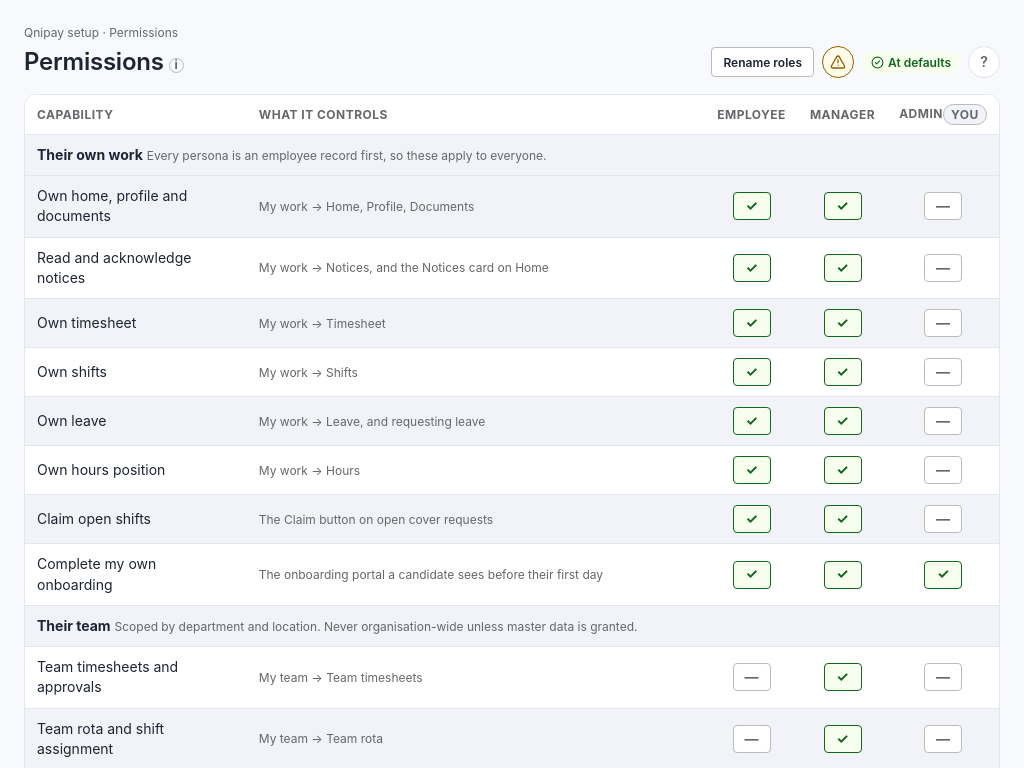
Test: the aperm page offers a ? that opens its guide, section by section
Click the button "?".
click(984, 62)  # box [968, 46, 1000, 78]
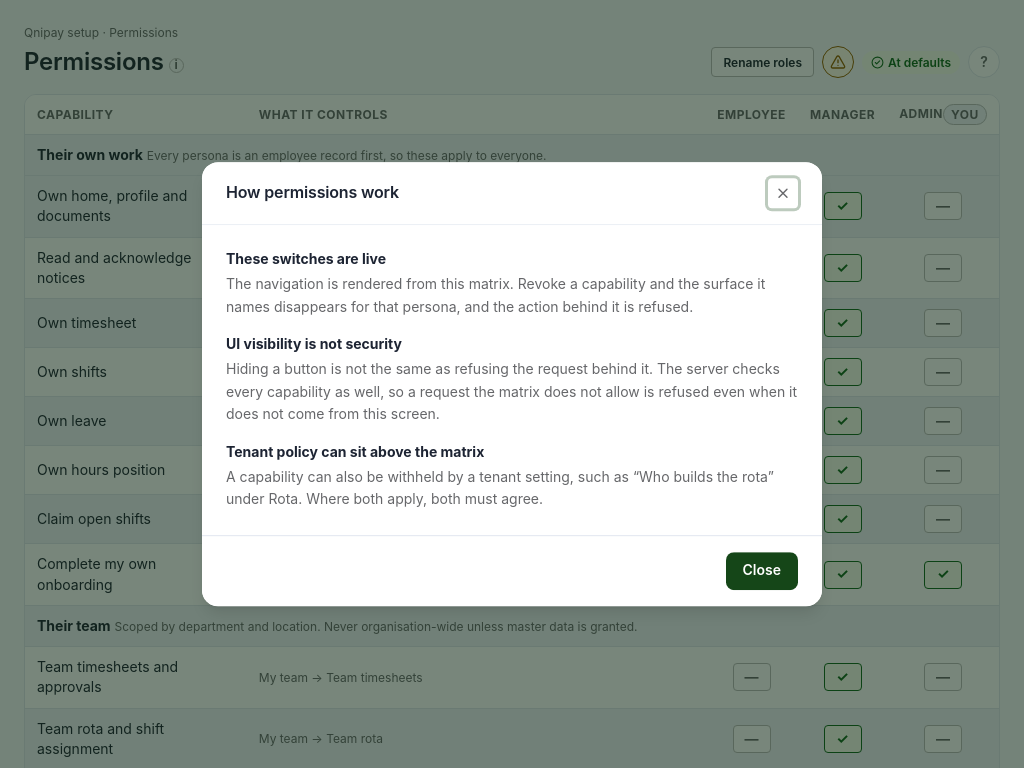
Check: the heading with test id "modal-title" reads "How permissions work", box [226, 183, 399, 203]
Check: the heading "These switches are live" is shown, box [226, 250, 386, 267]
Check: the dialog shows "The navigation is rendered from this matrix. Revoke a capability and the surface it names disappears for that persona, and the action behind it is refused.", box [226, 276, 765, 315]
Click the button with test id "guide-close".
click(762, 571)  # box [726, 552, 798, 590]
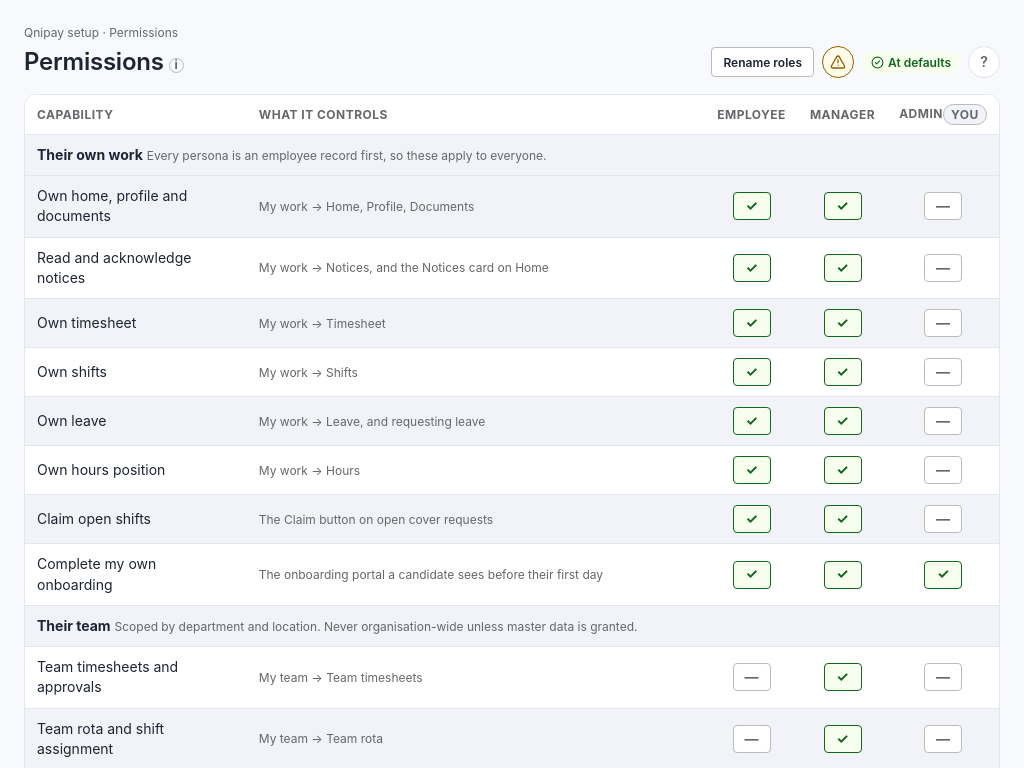
Check: the dialog is gone
